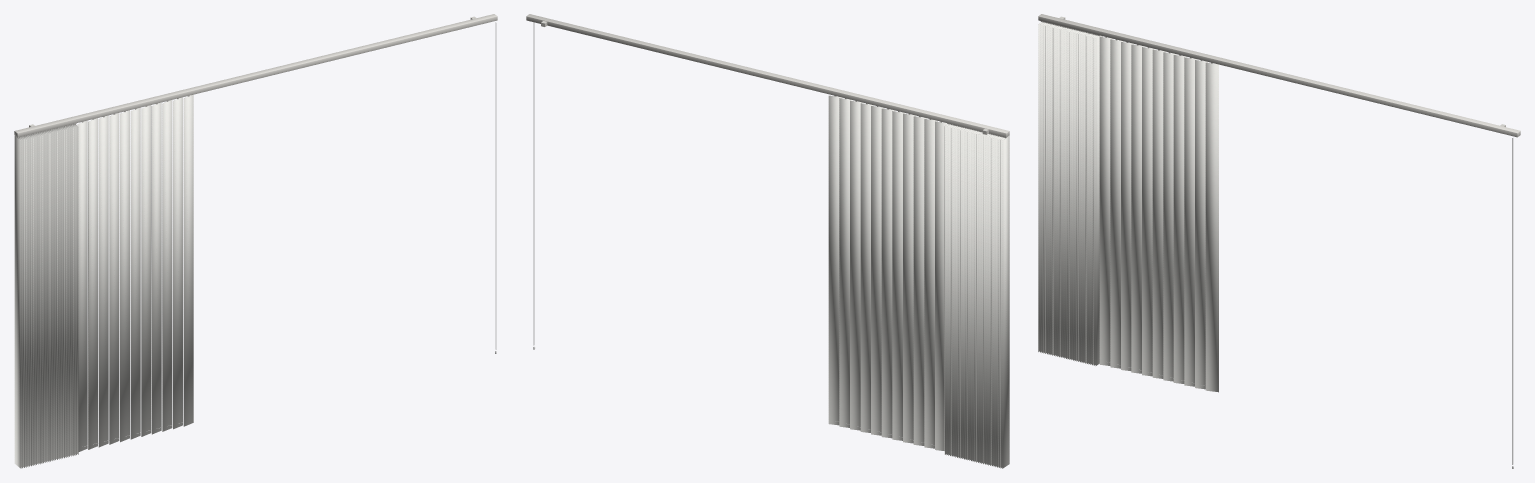
Rendered from cortina_vertical_360_c25.glb.
The picture shows the model from 3 angles, left to right: view 1: azimuth 30°, elevation 25°; view 2: azimuth 150°, elevation 25°; view 3: azimuth 330°, elevation 25°; orthographic projection.
Visible parts, largest first — view 1: cortina_vertical_360_c25; view 2: cortina_vertical_360_c25; view 3: cortina_vertical_360_c25.
Part boxes in pixels (box(x1,y1,x2,y2)): cortina_vertical_360_c25: box(14, 14, 497, 468); cortina_vertical_360_c25: box(526, 14, 1009, 468); cortina_vertical_360_c25: box(1038, 14, 1520, 468).
Size of the model in its own units: 3.59 by 2.4 by 0.0995.
Materials: 3 (1 with a texture image).
